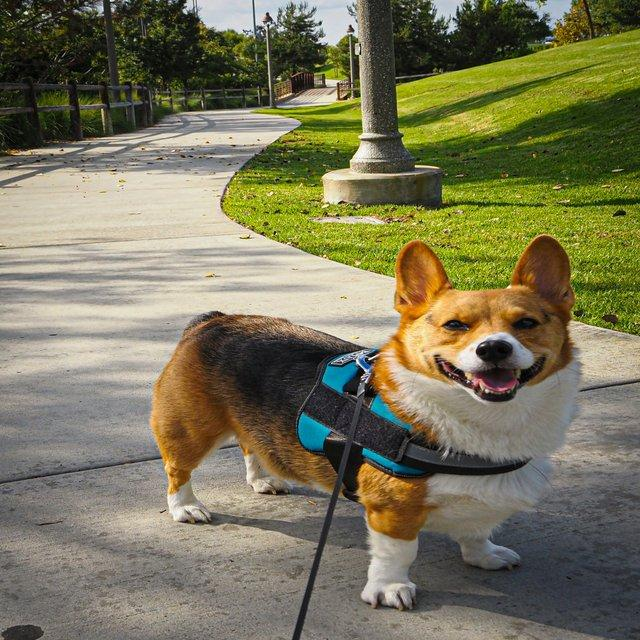corgi: (148, 233, 583, 611)
